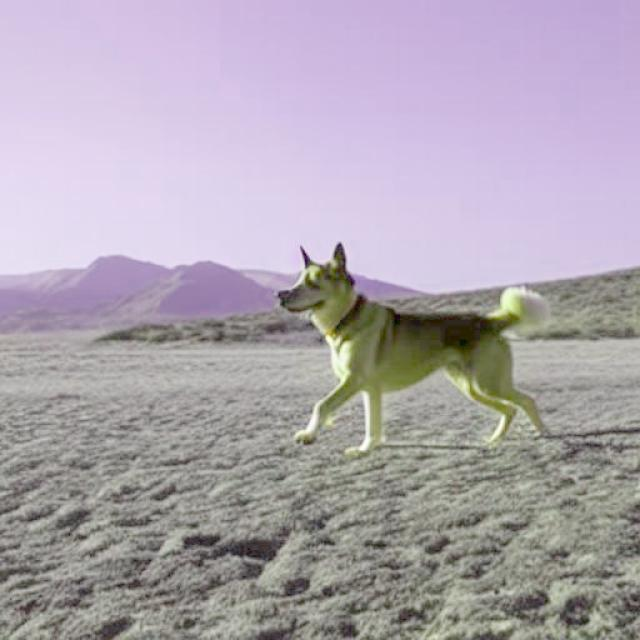Dog: (275, 241, 555, 455)
